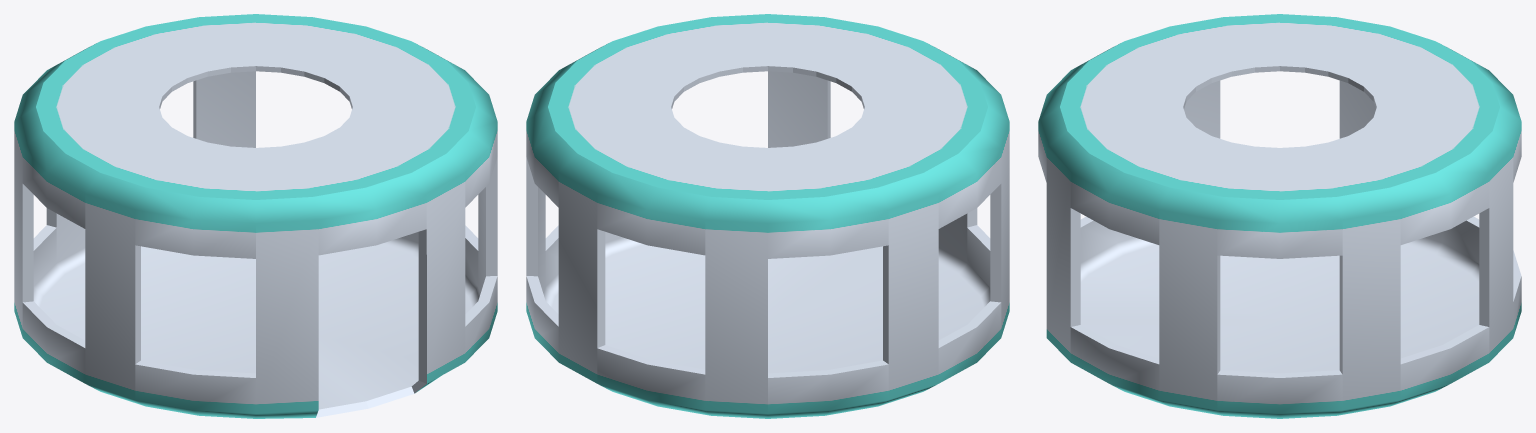
File: bottomFloor.fbx
The picture shows the model from 3 angles, left to right: view 1: azimuth 30°, elevation 25°; view 2: azimuth 150°, elevation 25°; view 3: azimuth 270°, elevation 25°; orthographic projection.
Parts seen in each view (by area): view 1: bottomFloor; view 2: bottomFloor; view 3: bottomFloor.
Boxes of the visible parts, x1,y1,x2,y2 form: bottomFloor: (14,14,497,418); bottomFloor: (526,14,1009,418); bottomFloor: (1038,14,1521,418).
Size of the model in its own units: 16.8 by 8.4 by 16.8.
Materials: 1 (1 with a texture image).
